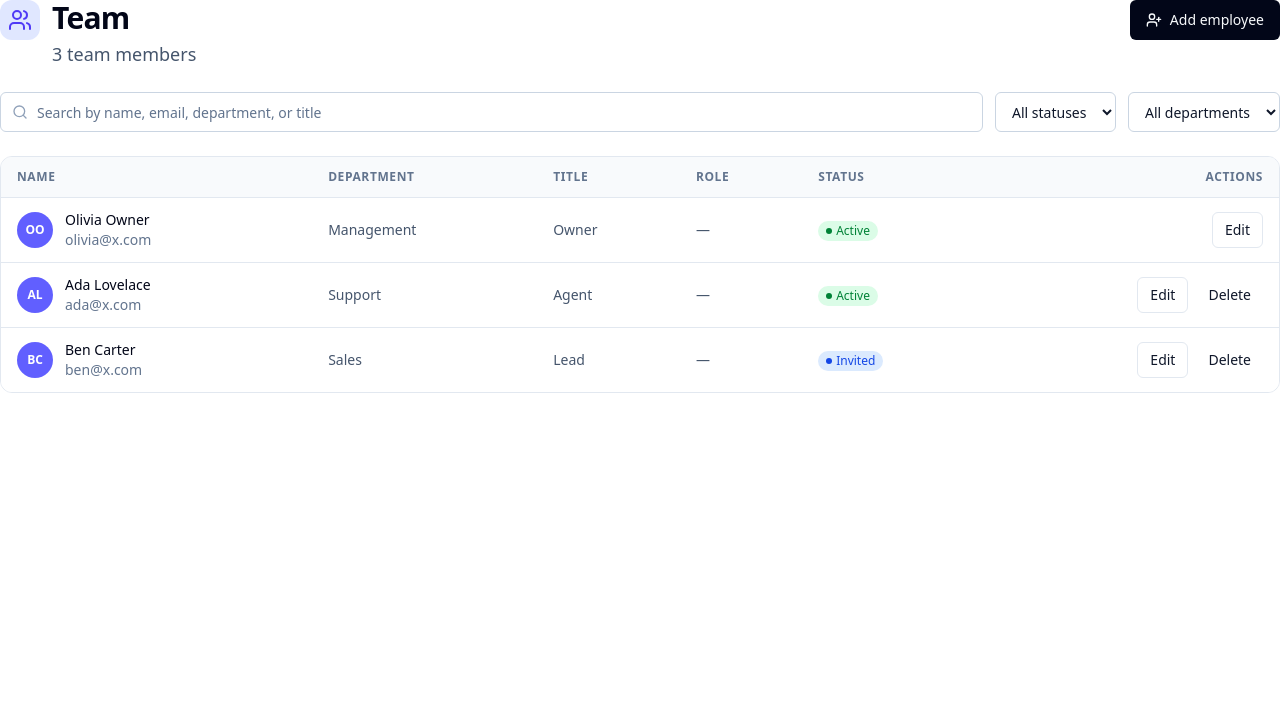
Test: TeamPage › does not submit an invalid create form
Expected: the button "Ada Lovelace" is shown, [65,275,151,295]
Click the button "Add employee" at (1205, 20), box [1130,0,1279,40]
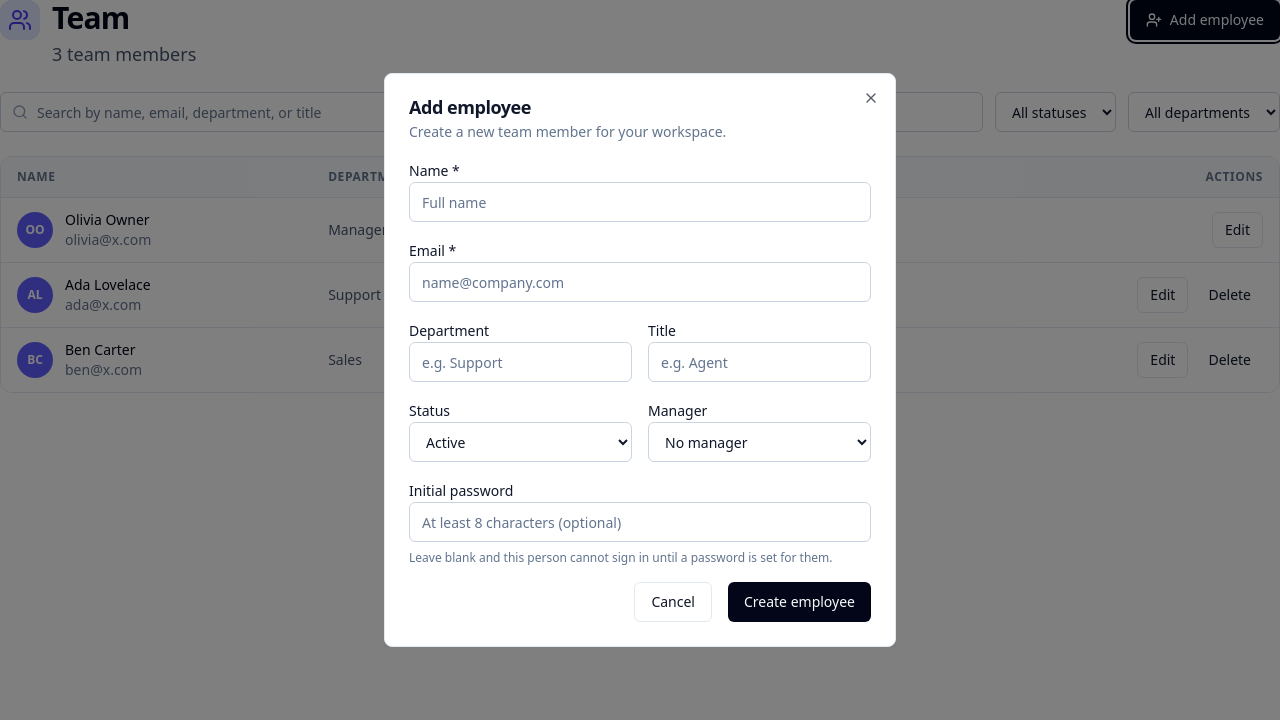
Click the button "Create employee" at (800, 602), box [728,582,871,622]
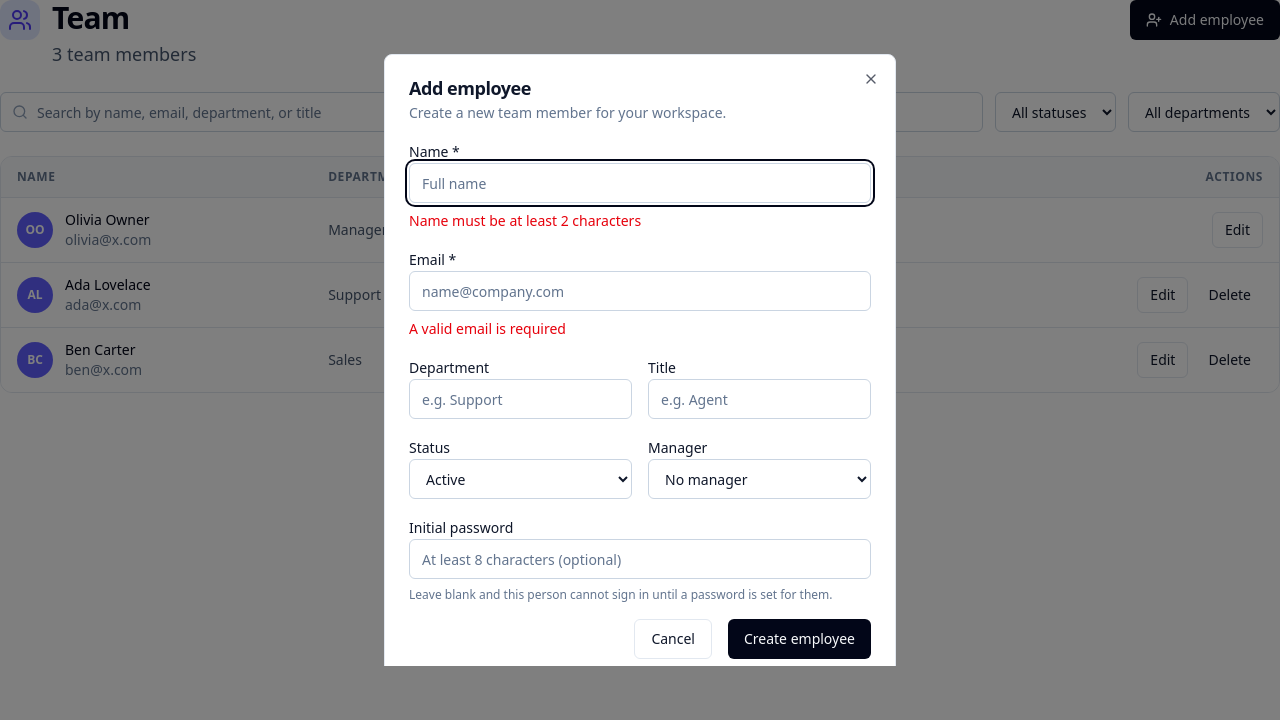
Result: the text "Name must be at least 2 characters" is shown at [409,211,641,230]
